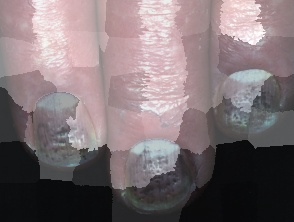Nail_psoriasis: (1, 68, 126, 192), (98, 115, 217, 222), (209, 50, 294, 144)
